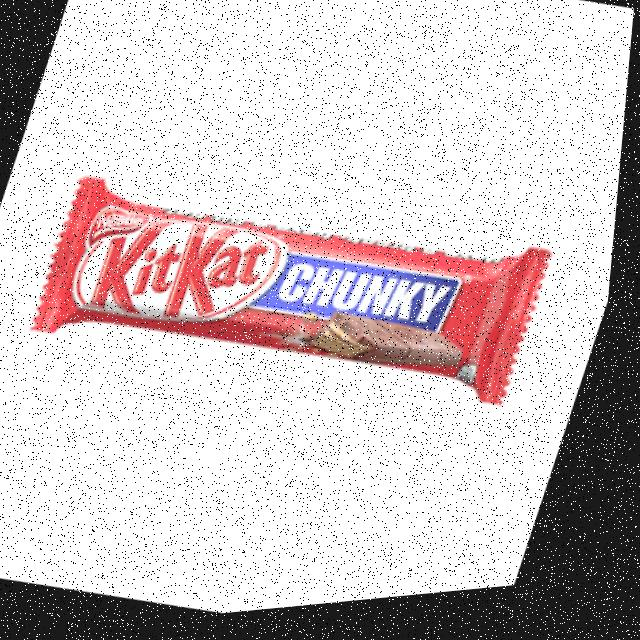kitkat: (25, 145, 569, 449)
